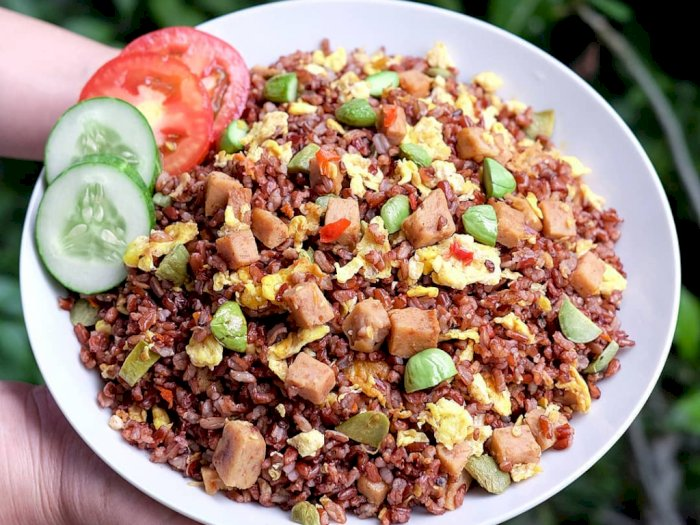Nasi Merah: (57, 68, 644, 491)
